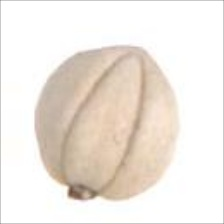L5: (58, 52, 147, 187), (62, 178, 104, 204)
L6: (32, 44, 179, 204)
